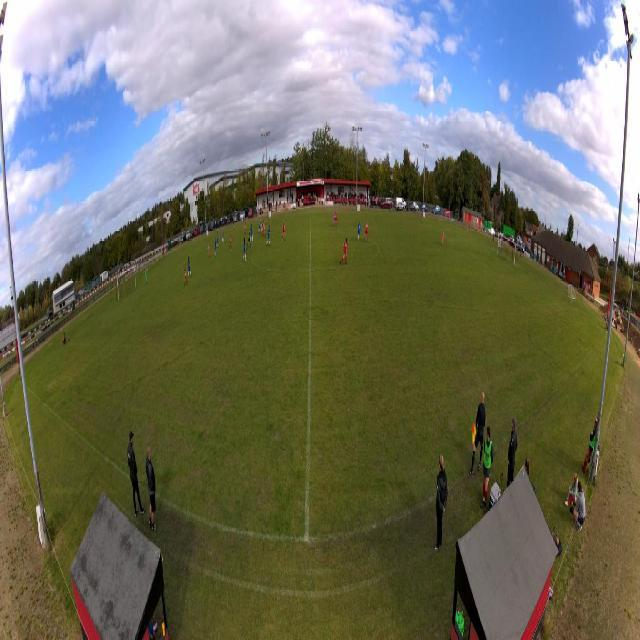ball: (302, 202, 304, 207)
player: (340, 235, 349, 265), (363, 220, 369, 244), (266, 224, 271, 248), (247, 227, 252, 251), (243, 236, 247, 263), (184, 263, 188, 288), (188, 255, 192, 279), (358, 220, 362, 242), (282, 219, 286, 240), (262, 219, 266, 239), (207, 240, 211, 260), (334, 209, 338, 228), (250, 224, 254, 243), (244, 219, 247, 238), (229, 232, 232, 251), (145, 267, 148, 286), (441, 229, 444, 248), (261, 220, 264, 238), (333, 210, 336, 227), (221, 227, 224, 244), (258, 218, 261, 234), (215, 237, 217, 257), (217, 230, 219, 249)
